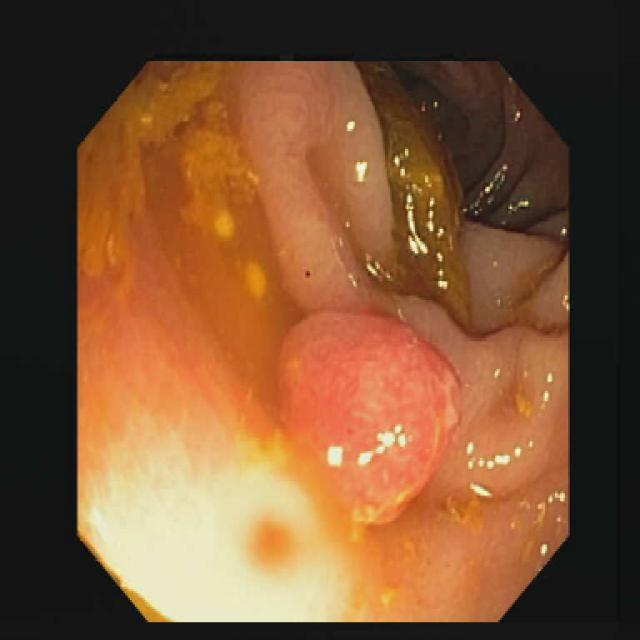tumor: (280, 311, 458, 520)
